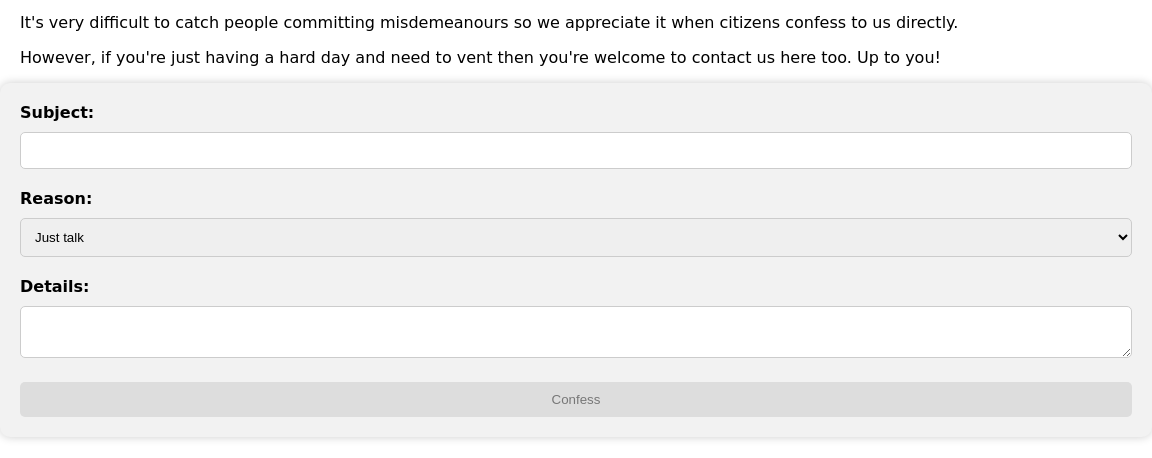
ConfessionForm › should enable submit button when form is valid
Type "Test subject" into the field labelled "Subject:". click: (576, 150)
box: [20,132,1132,169]
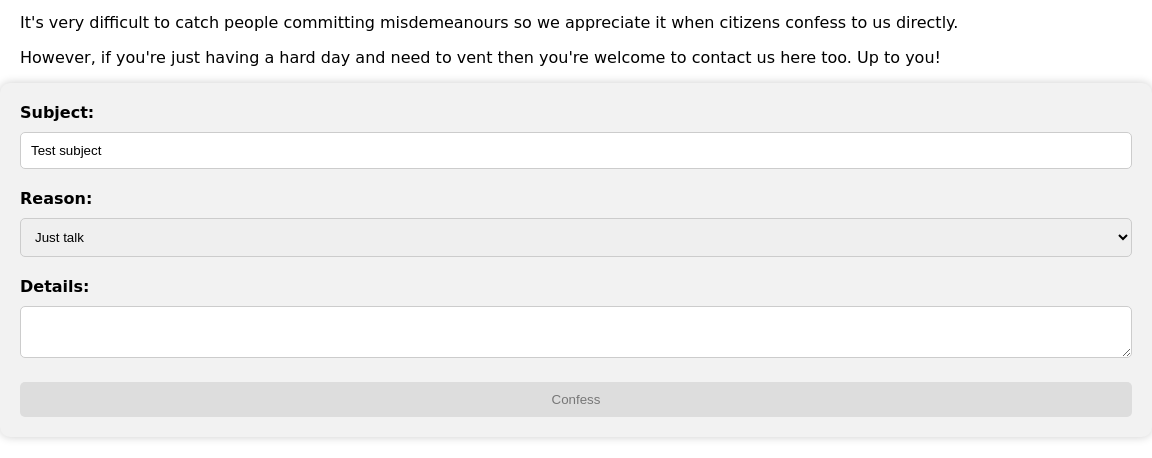
Type "Test details" into the text box labelled "Details:". click: (576, 332)
box: [20,306,1132,358]
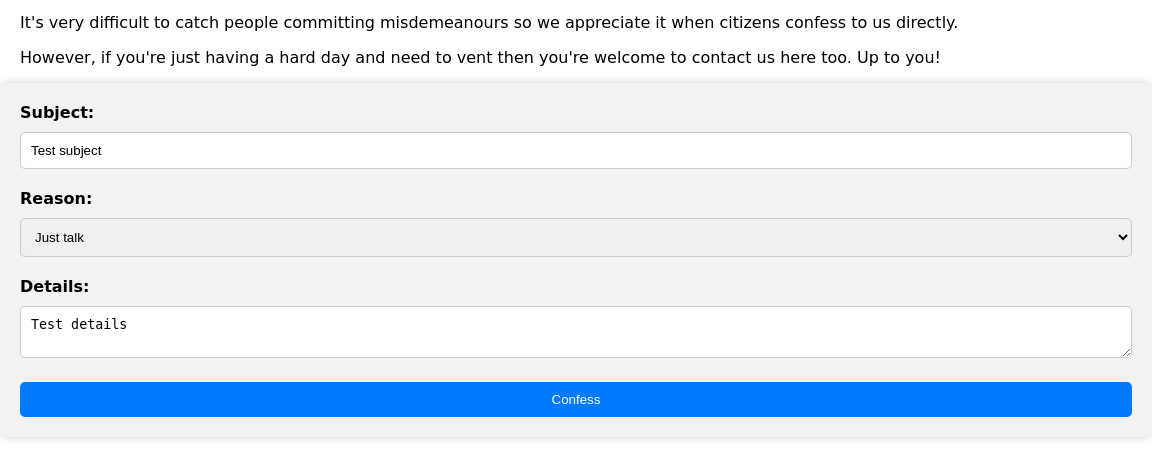
expect the button "Confess" is enabled: met, box [20,382,1132,417]
